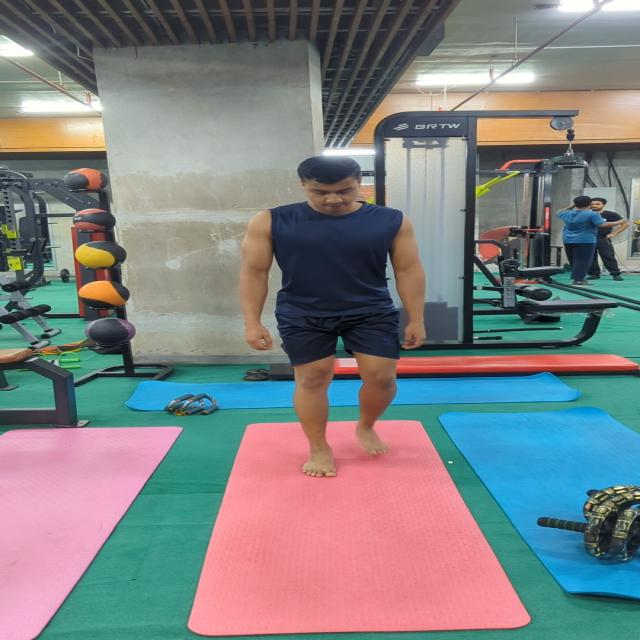Normal_Lunges: (236, 153, 430, 480)
